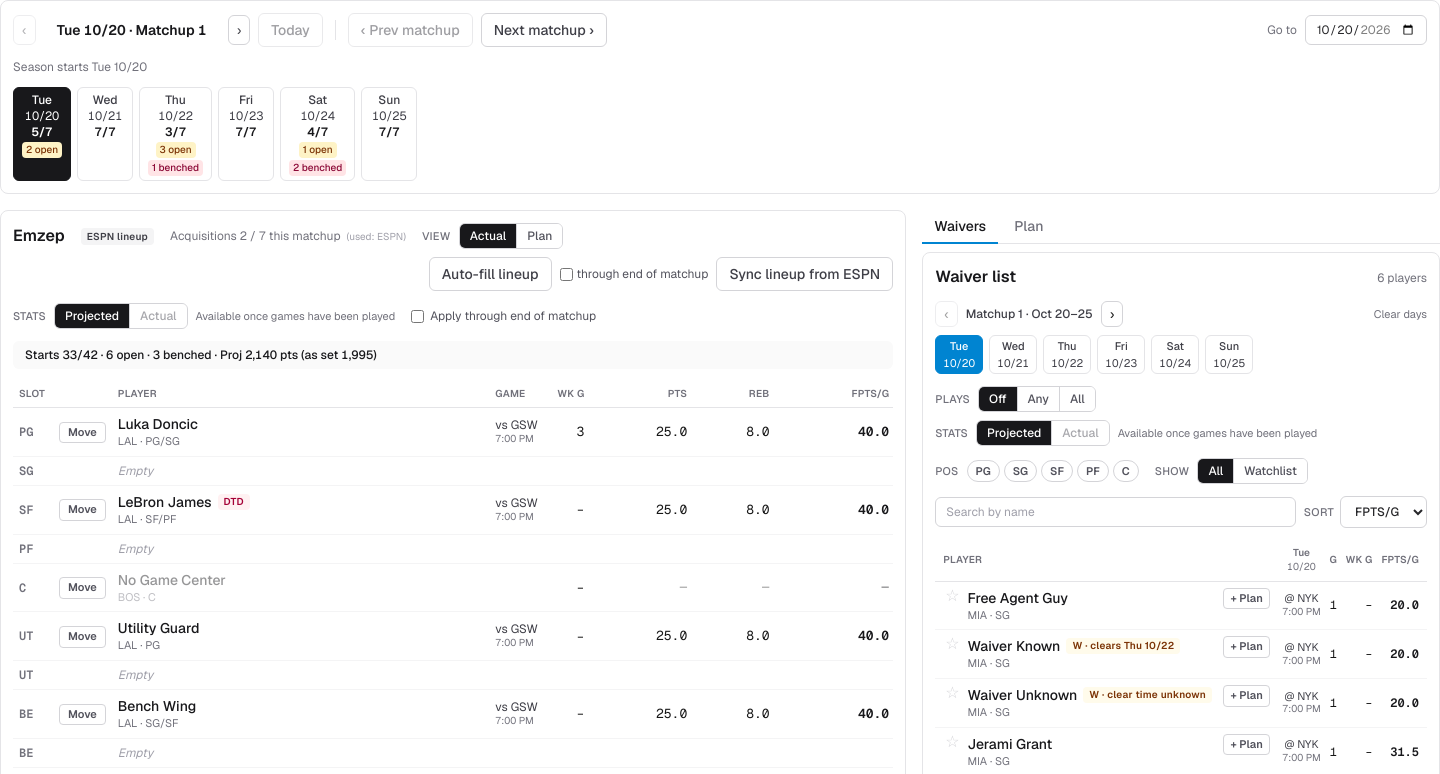
Test: the Plan tab › shows a done move with the backup it got, and the chain settled on him
Check: the button "Luka Doncic" is shown, box 118,414 -> 198,434
Check: the button "Free Agent Guy" is shown, box 968,588 -> 1068,608
Click the tab "Plan": (1029,227) 1002,210 -> 1055,244
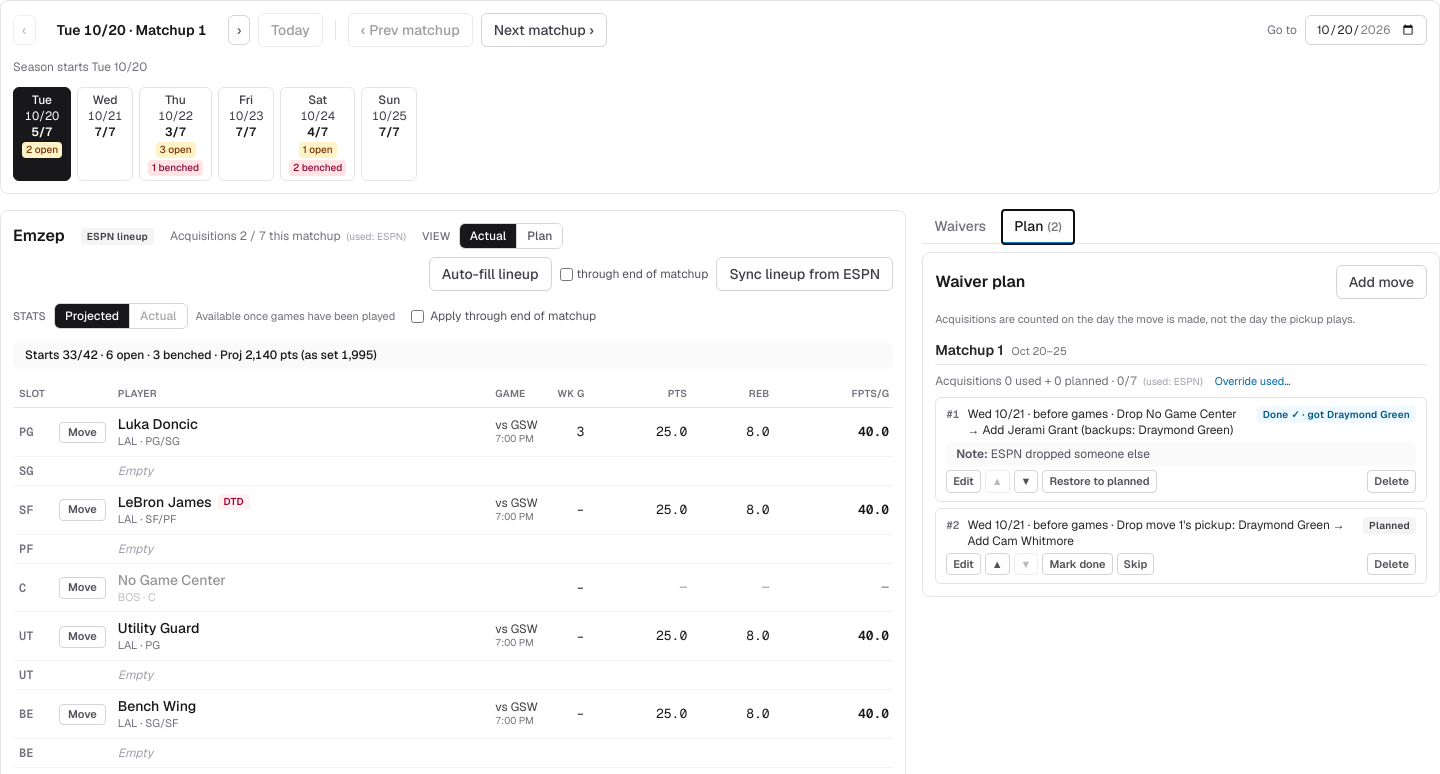
Check: the heading "Waiver plan" is shown, box 935,270 -> 1026,294
Check: the 1st list item is shown, box 935,397 -> 1427,502
Check: the text "Done ✓ · got Draymond Green" is shown, box 1257,406 -> 1416,423
